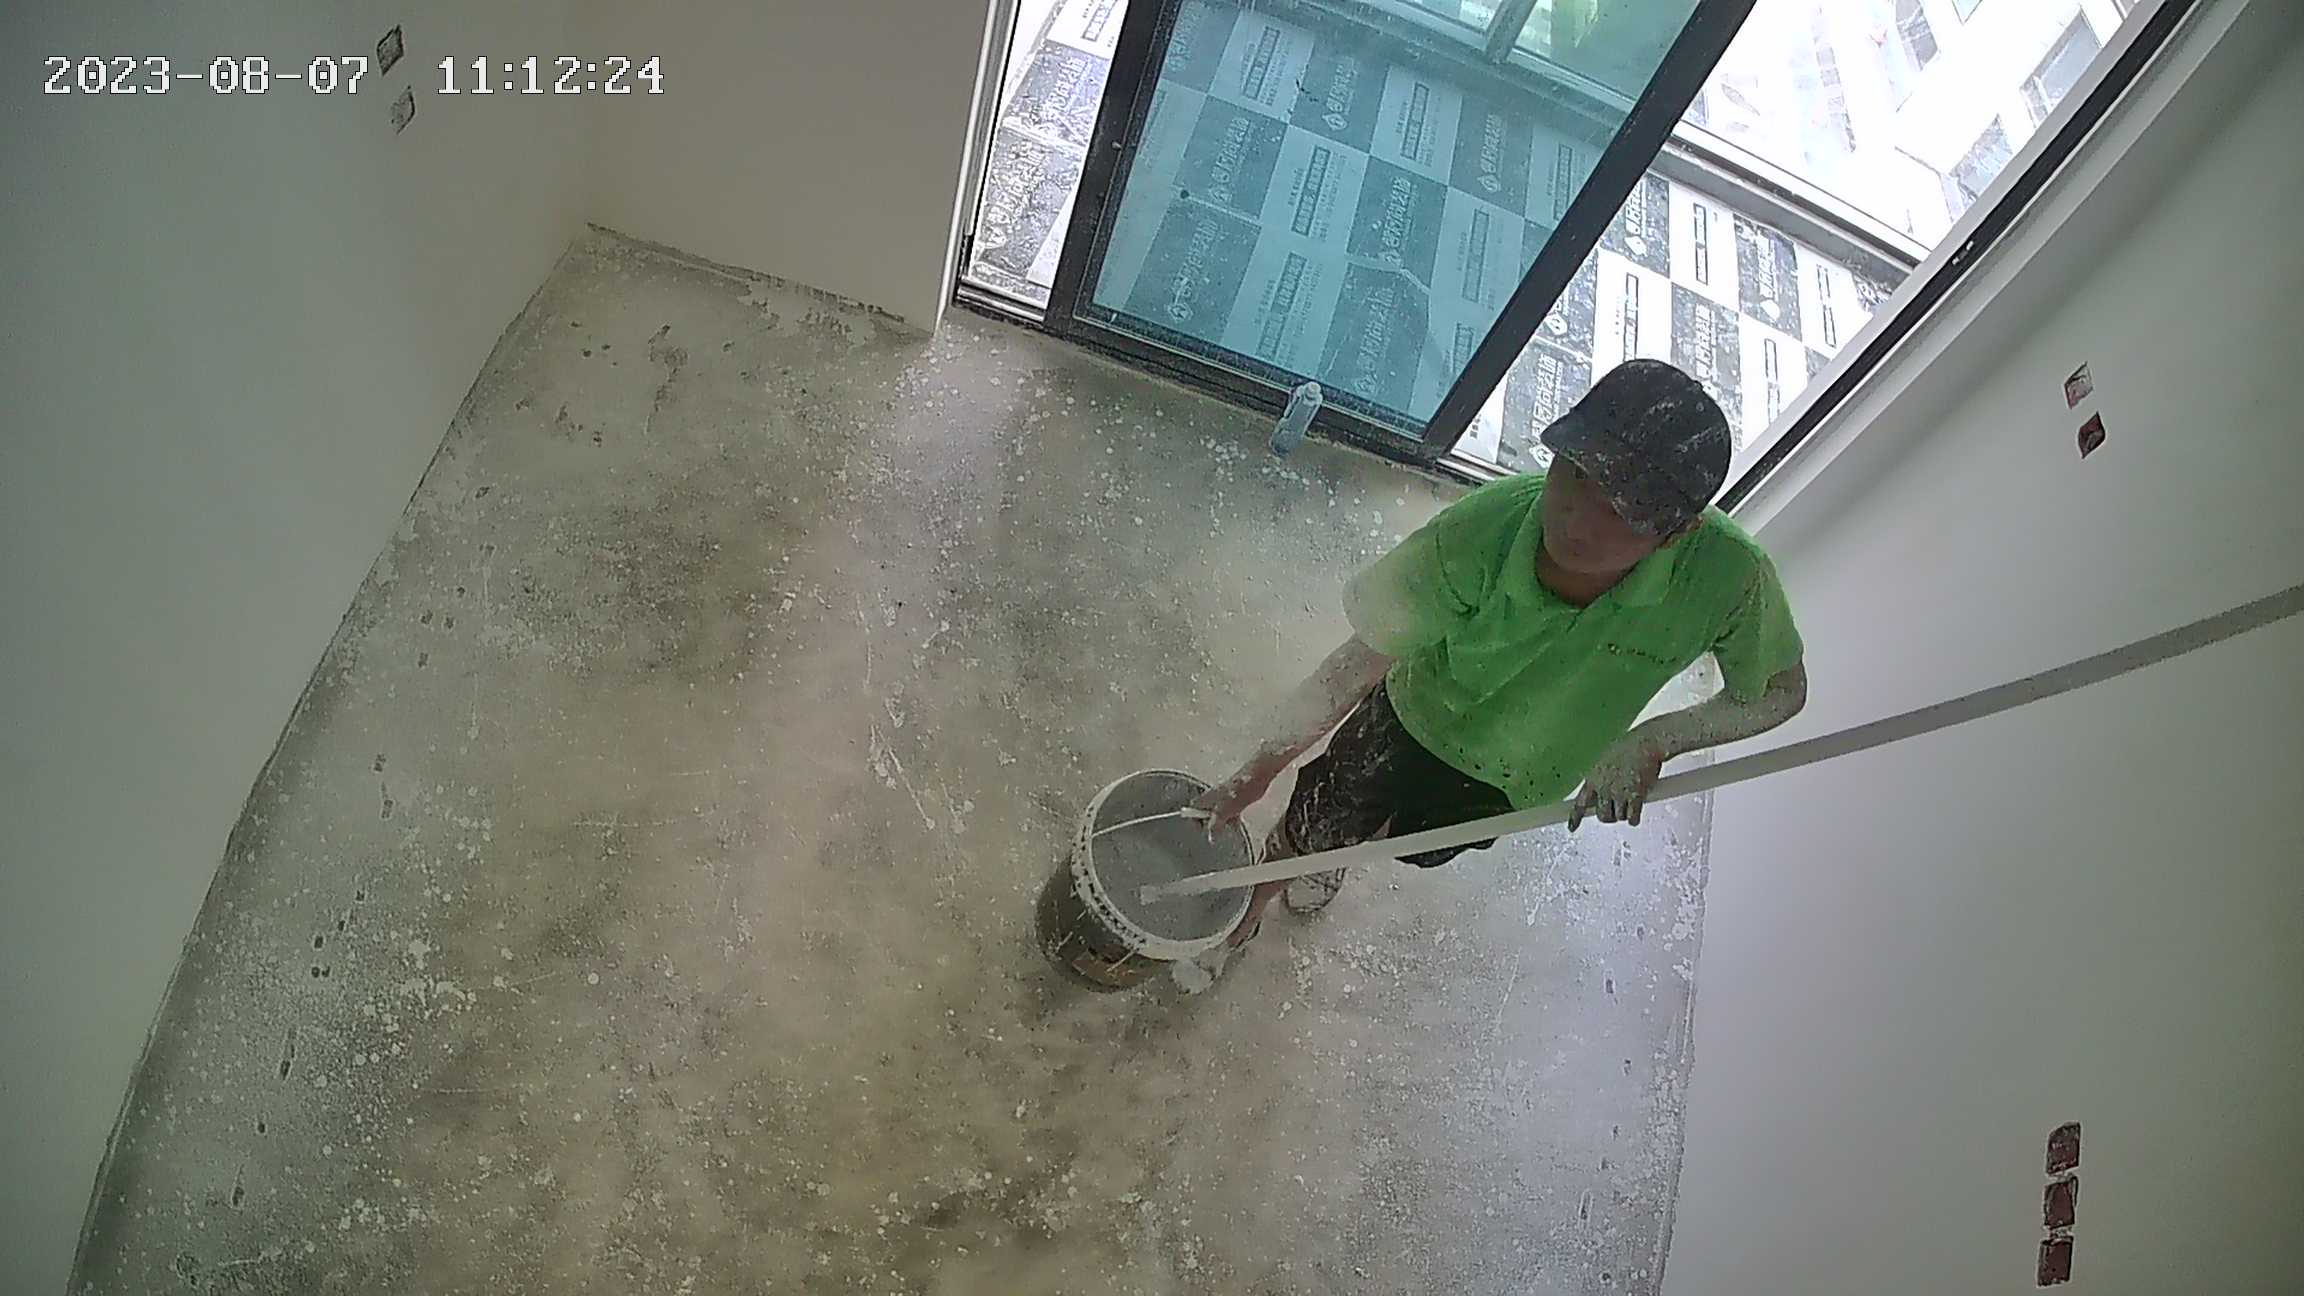people: (1229, 363, 1807, 1009)
window: (1254, 1, 2105, 218)
